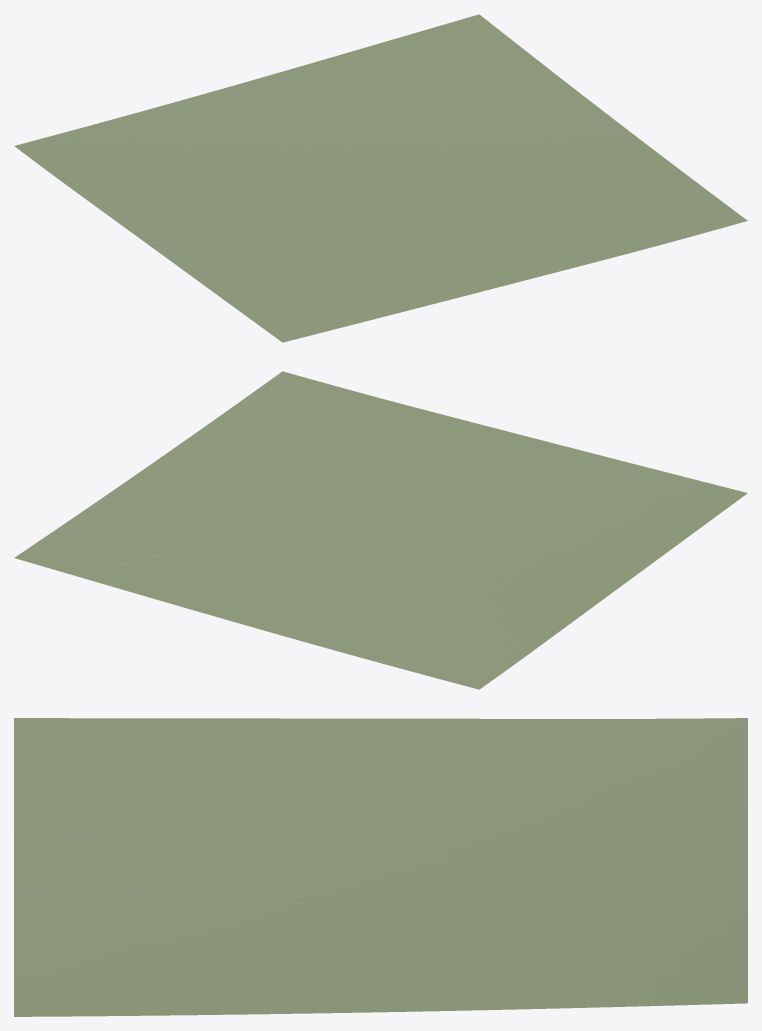
Rendered from desert-9-20.glb.
The picture shows the model from 3 angles, top to bottom: view 1: azimuth 30°, elevation 25°; view 2: azimuth 150°, elevation 25°; view 3: azimuth 270°, elevation 25°; orthographic projection. The views are drawn at different scales.
Visible parts, largest first — view 1: desert-9-20; view 2: desert-9-20; view 3: desert-9-20.
Boxes of the visible parts, x1,y1,x2,y2 form: desert-9-20: (14, 14, 747, 342); desert-9-20: (14, 371, 747, 689); desert-9-20: (14, 718, 747, 1016).
Bounding box in the file's own units: 512 × 19.83 × 512.
